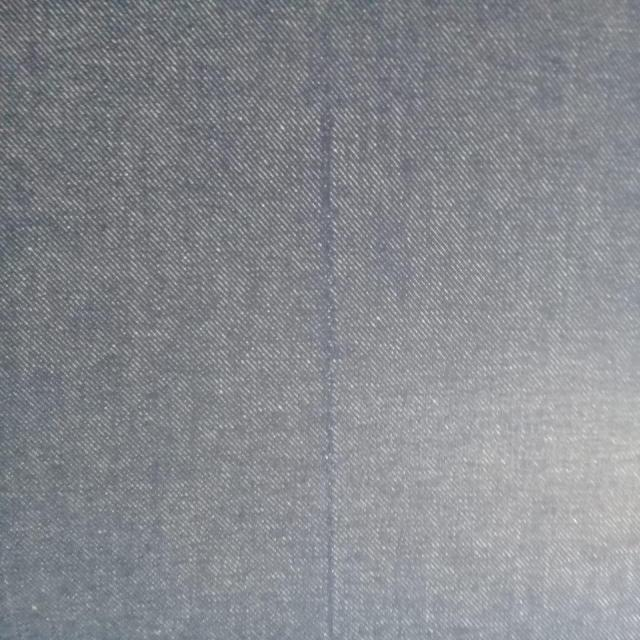Line: (321, 54, 336, 637)
